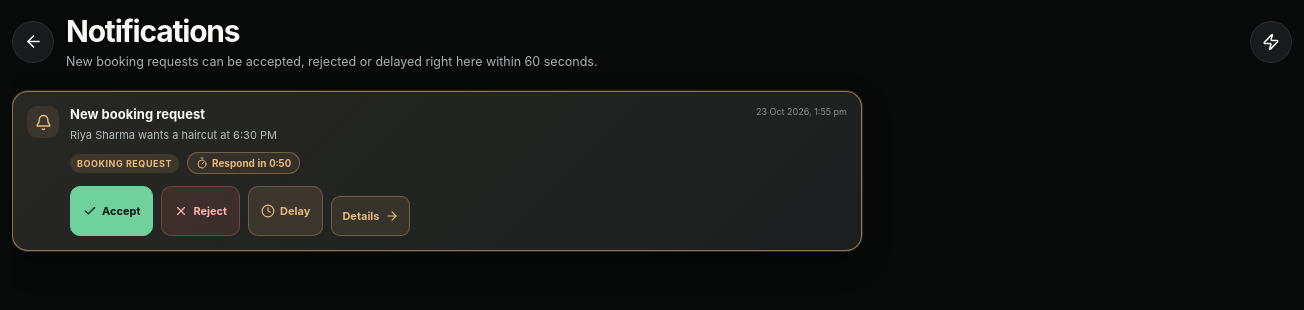
salon Notifications tab — booking request actions › accepts with the owner-action contract ({ action }) and shows the result instead of a loader
This screenshot has width=1304, height=310.
Click the button "Accept" at (112, 211), box [70,186,153,236]
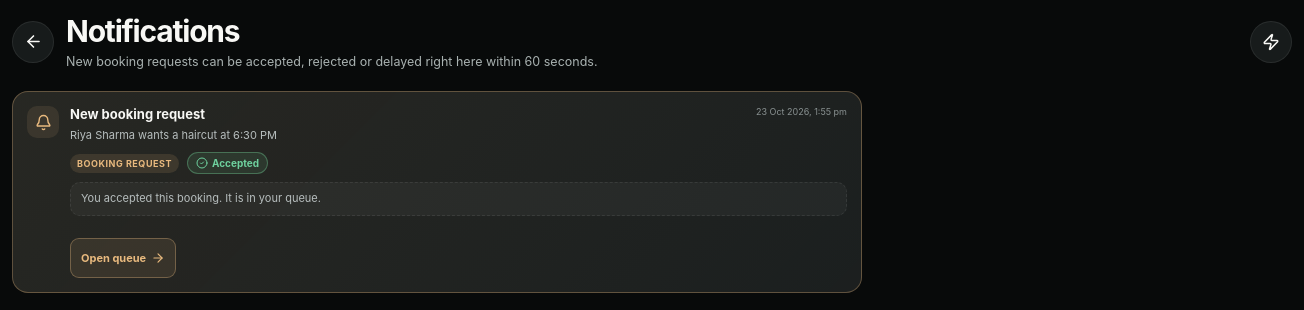
Now the text "You accepted this booking" is shown, box [81,191,321,205]
